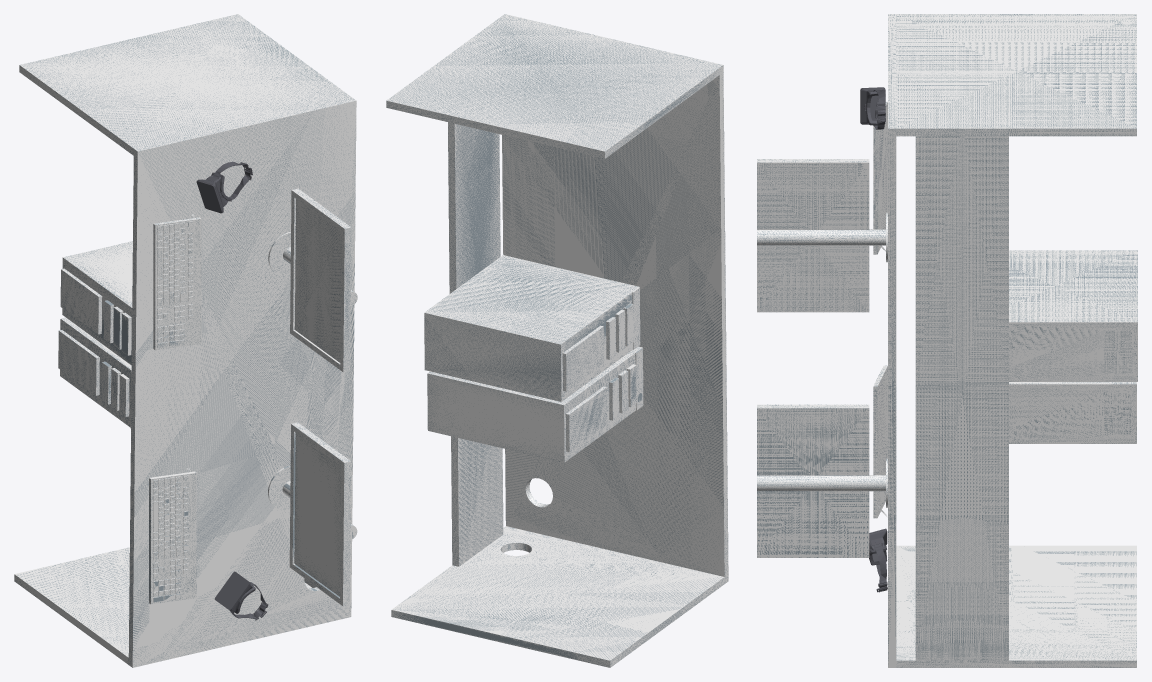
The model's file is desk.fbx.
The picture shows the model from 3 angles, left to right: view 1: azimuth 30°, elevation 25°; view 2: azimuth 150°, elevation 25°; view 3: azimuth 270°, elevation 25°; orthographic projection. The views are drawn at different scales.
Parts seen in each view (by area): view 1: Group3, Group5, Group8, Keyboard1_1, Keyboard1_2, Computer2, Computer1, Group11, Group16, Obj_000002_2, Group9, Group6 (+1 smaller); view 2: Group3, Computer2, Computer1, Group16, Group11; view 3: Group3, Computer2, Group8, Group5, Computer1, Group9, Group6, Keyboard1_2, Keyboard1_1, Obj_000002_1.
Part boxes in pixels (left/top/right/bottom): Group3: left=14, top=14, right=356, bottom=667; Group5: left=290, top=188, right=351, bottom=372; Group8: left=289, top=422, right=351, bottom=606; Keyboard1_1: left=153, top=214, right=201, bottom=350; Keyboard1_2: left=149, top=468, right=196, bottom=604; Computer2: left=62, top=241, right=132, bottom=365; Computer1: left=60, top=317, right=131, bottom=427; Group11: left=58, top=330, right=99, bottom=395; Group16: left=60, top=268, right=102, bottom=334; Obj_000002_2: left=214, top=571, right=255, bottom=613; Group9: left=268, top=466, right=357, bottom=539; Group6: left=268, top=232, right=357, bottom=305; Group3: left=386, top=14, right=728, bottom=667; Computer2: left=424, top=255, right=640, bottom=401; Computer1: left=427, top=346, right=643, bottom=462; Group16: left=562, top=325, right=604, bottom=391; Group11: left=565, top=386, right=607, bottom=452; Group3: left=888, top=14, right=1136, bottom=667; Computer2: left=1009, top=250, right=1137, bottom=381; Group8: left=757, top=404, right=869, bottom=557; Group5: left=757, top=159, right=869, bottom=312; Computer1: left=1009, top=382, right=1136, bottom=443; Group9: left=757, top=458, right=887, bottom=507; Group6: left=757, top=212, right=887, bottom=262; Keyboard1_2: left=873, top=365, right=887, bottom=518; Keyboard1_1: left=873, top=101, right=887, bottom=254; Obj_000002_1: left=860, top=87, right=885, bottom=125.
Bounding box in the file's own units: 32.75 × 72.33 × 45.85.
